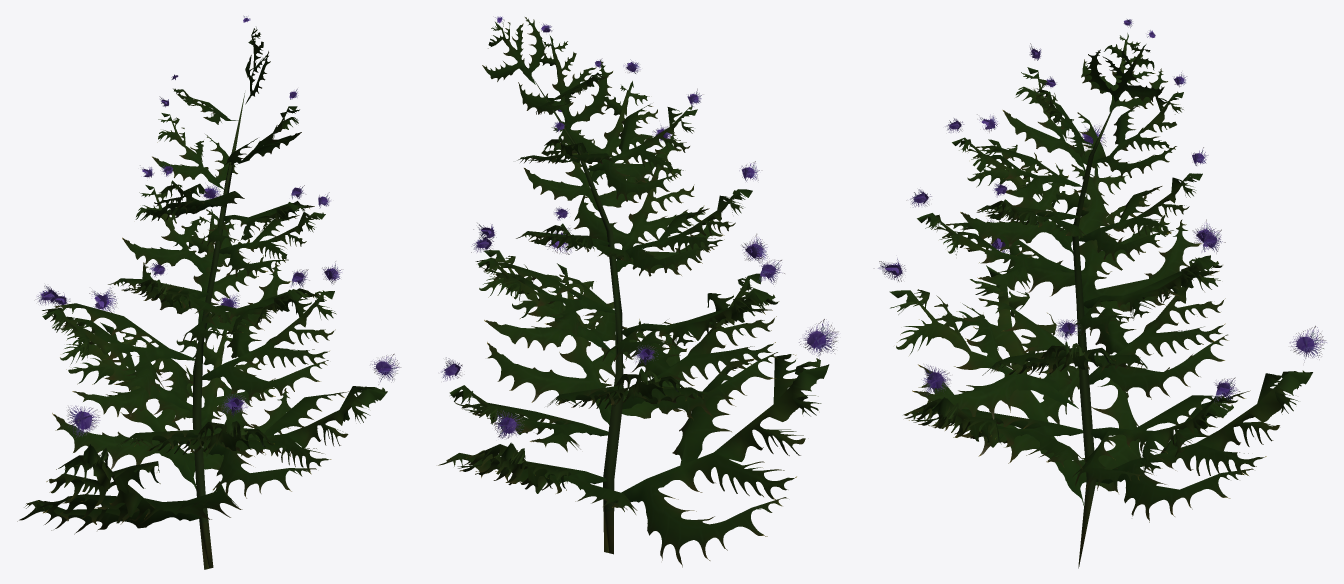
Rendered from sm_Thistle_pianta_LOD2.fbx.
3 views of the same model, side by side, from view 1: azimuth 30°, elevation 25°; view 2: azimuth 150°, elevation 25°; view 3: azimuth 270°, elevation 25° (orthographic). The views are drawn at different scales.
Parts seen in each view (by area): view 1: Leaf15, Leaf17, Leaf16, Leaf06, Leaf08, Leaf04, Leaf05, Leaf18, Leaf07, Trunk, Leaf00, Leaf12 (+8 smaller); view 2: Leaf15, Leaf05, Leaf17, Leaf16, Leaf09, Leaf06, Leaf08, Leaf11, Leaf03, Trunk, Leaf07, Leaf18 (+8 smaller); view 3: Leaf16, Leaf15, Leaf05, Leaf04, Leaf08, Leaf17, Leaf18, Leaf11, Leaf09, Leaf00, Trunk, Leaf07 (+8 smaller).
Part boxes in pixels (bbox=[...]): Leaf15: bbox=[17, 405, 242, 534]; Leaf17: bbox=[202, 353, 401, 498]; Leaf16: bbox=[52, 287, 254, 489]; Leaf06: bbox=[202, 261, 343, 402]; Leaf08: bbox=[34, 285, 195, 395]; Leaf04: bbox=[53, 292, 192, 416]; Leaf05: bbox=[117, 394, 296, 456]; Leaf18: bbox=[146, 294, 291, 453]; Leaf07: bbox=[141, 184, 291, 340]; Trunk: bbox=[192, 93, 244, 569]; Leaf00: bbox=[122, 165, 233, 277]; Leaf12: bbox=[219, 192, 330, 276]; Leaf15: bbox=[614, 319, 838, 567]; Leaf05: bbox=[622, 233, 777, 419]; Leaf17: bbox=[487, 227, 694, 424]; Leaf16: bbox=[438, 410, 637, 514]; Leaf09: bbox=[573, 125, 724, 275]; Leaf06: bbox=[473, 223, 626, 353]; Leaf08: bbox=[602, 259, 784, 361]; Leaf11: bbox=[616, 161, 762, 276]; Leaf03: bbox=[587, 88, 703, 201]; Trunk: bbox=[531, 75, 623, 554]; Leaf07: bbox=[471, 234, 616, 334]; Leaf18: bbox=[441, 357, 608, 452]; Leaf16: bbox=[1096, 325, 1326, 522]; Leaf15: bbox=[918, 218, 1150, 505]; Leaf05: bbox=[873, 258, 1078, 419]; Leaf04: bbox=[1089, 219, 1228, 399]; Leaf08: bbox=[1007, 125, 1201, 314]; Leaf17: bbox=[903, 364, 1086, 468]; Leaf18: bbox=[1072, 377, 1240, 493]; Leaf11: bbox=[960, 114, 1113, 253]; Leaf09: bbox=[906, 189, 1074, 290]; Leaf00: bbox=[1079, 147, 1208, 260]; Trunk: bbox=[1072, 102, 1115, 568]; Leaf07: bbox=[1069, 229, 1225, 335].
Size of the model in its own units: 1.12 by 1.74 by 1.26.
1 material, 1 textured.
